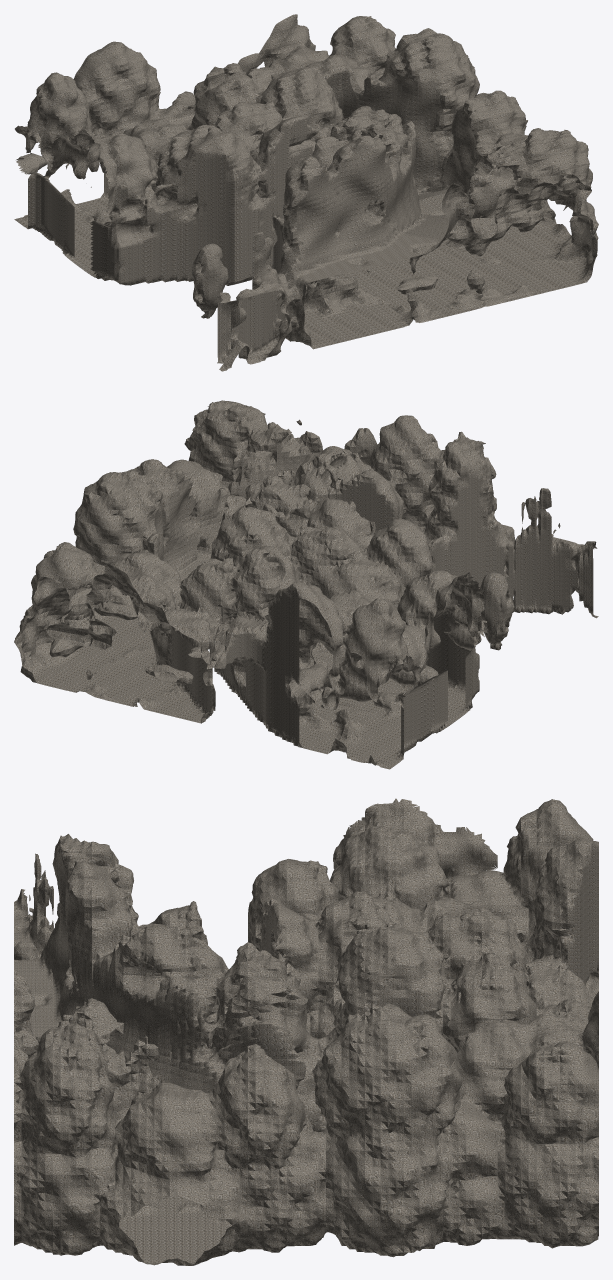
The model's file is taihu_rockery_3.glb.
The picture shows the model from 3 angles, top to bottom: view 1: azimuth 30°, elevation 25°; view 2: azimuth 150°, elevation 25°; view 3: azimuth 270°, elevation 25°; orthographic projection. The views are drawn at different scales.
Parts seen in each view (by area): view 1: taihu_rockery_31, taihu_rockery_30, taihu_rockery_311, taihu_rockery_33, taihu_rockery_32, taihu_rockery_313, taihu_rockery_34, taihu_rockery_39, taihu_rockery_36, taihu_rockery_312, taihu_rockery_35, taihu_rockery_310 (+4 smaller); view 2: taihu_rockery_30, taihu_rockery_31, taihu_rockery_32, taihu_rockery_33, taihu_rockery_311, taihu_rockery_313, taihu_rockery_312, taihu_rockery_36, taihu_rockery_34, taihu_rockery_35, taihu_rockery_39, taihu_rockery_37 (+4 smaller); view 3: taihu_rockery_314, taihu_rockery_315, taihu_rockery_313, taihu_rockery_39, taihu_rockery_38, taihu_rockery_310, taihu_rockery_311, taihu_rockery_37, taihu_rockery_31, taihu_rockery_30, taihu_rockery_36, taihu_rockery_35 (+4 smaller).
Boxes of the visible parts, box(x1,y1,x2,y2) form: taihu_rockery_31: box(19, 41, 326, 370); taihu_rockery_30: box(14, 72, 283, 371); taihu_rockery_311: box(250, 16, 571, 313); taihu_rockery_33: box(76, 42, 341, 349); taihu_rockery_32: box(76, 41, 341, 348); taihu_rockery_313: box(308, 16, 598, 299); taihu_rockery_34: box(94, 63, 398, 340); taihu_rockery_39: box(239, 14, 514, 327); taihu_rockery_36: box(147, 56, 456, 342); taihu_rockery_312: box(307, 16, 570, 297); taihu_rockery_35: box(145, 59, 396, 316); taihu_rockery_310: box(249, 14, 514, 309); taihu_rockery_30: box(327, 488, 598, 769); taihu_rockery_31: box(277, 432, 593, 768); taihu_rockery_32: box(275, 432, 520, 753); taihu_rockery_33: box(278, 432, 524, 753); taihu_rockery_311: box(38, 402, 358, 711); taihu_rockery_313: box(14, 401, 304, 696); taihu_rockery_312: box(37, 403, 302, 696); taihu_rockery_36: box(154, 415, 460, 729); taihu_rockery_34: box(211, 415, 515, 741); taihu_rockery_35: box(212, 415, 461, 734); taihu_rockery_39: box(95, 423, 392, 722); taihu_rockery_37: box(153, 425, 391, 723); taihu_rockery_314: box(14, 1020, 598, 1265); taihu_rockery_315: box(14, 1020, 598, 1265); taihu_rockery_313: box(14, 1003, 598, 1262); taihu_rockery_39: box(14, 883, 598, 1196); taihu_rockery_38: box(14, 879, 590, 1066); taihu_rockery_310: box(14, 957, 598, 1196); taihu_rockery_311: box(14, 959, 598, 1236); taihu_rockery_37: box(33, 879, 591, 1066); taihu_rockery_31: box(14, 799, 597, 985); taihu_rockery_30: box(14, 798, 591, 947); taihu_rockery_36: box(29, 844, 593, 1063); taihu_rockery_35: box(28, 844, 595, 1020).
Bounding box in the file's own units: 19.92 × 8.43 × 18.
1 material, 1 textured.
